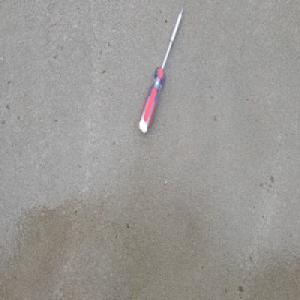Screwdriver: (138, 6, 184, 134)
